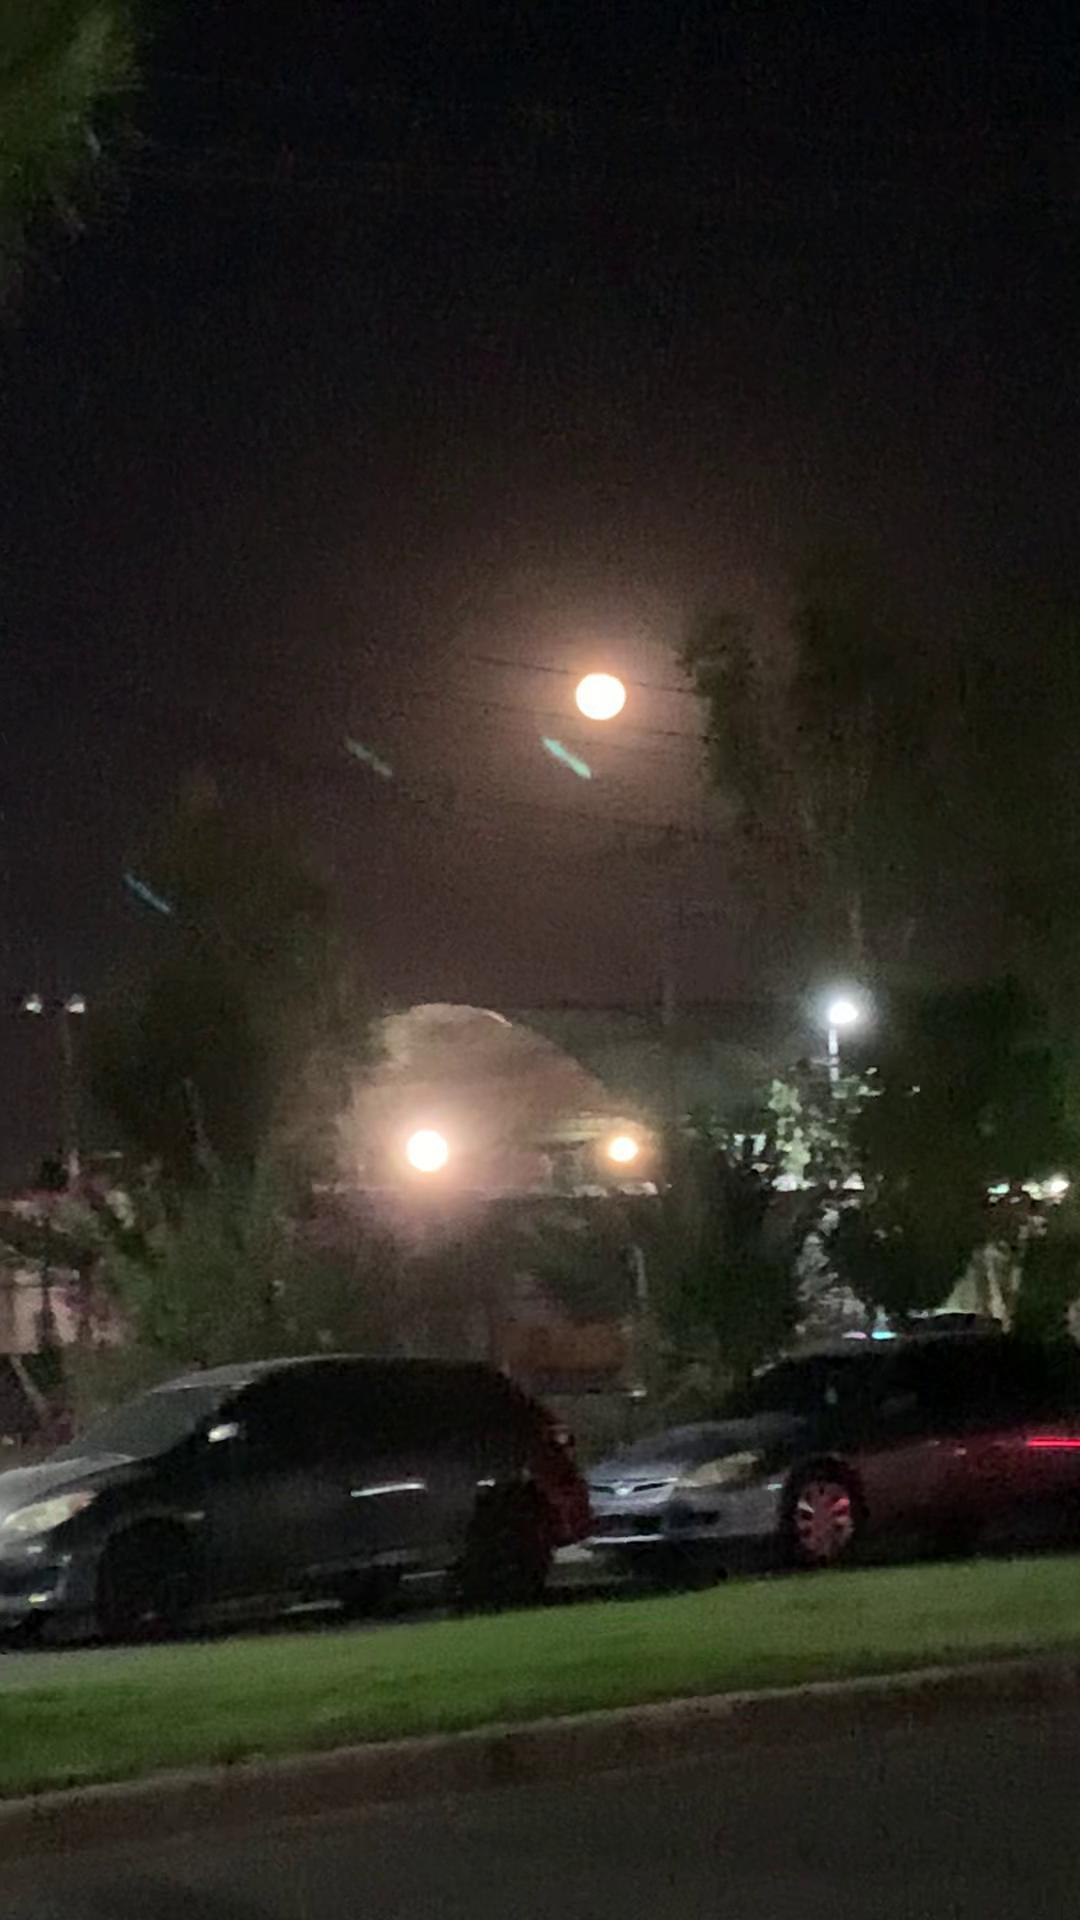moon: (568, 667, 658, 742)
